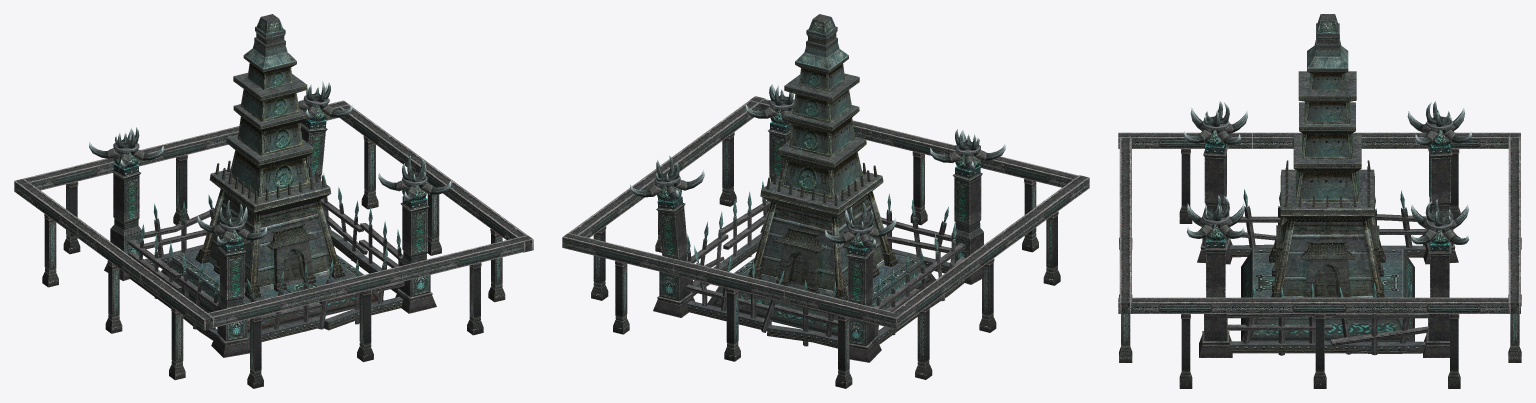
The model's file is 6st_tower.fbx.
3 views of the same model, side by side, from view 1: azimuth 30°, elevation 25°; view 2: azimuth 150°, elevation 25°; view 3: azimuth 270°, elevation 25° (orthographic). The views are drawn at different scales.
Visible parts, largest first — view 1: 5st_bell_001sfdgfdsg; view 2: 5st_bell_001sfdgfdsg; view 3: 5st_bell_001sfdgfdsg.
Boxes of the visible parts, x1,y1,x2,y2 form: 5st_bell_001sfdgfdsg: (14, 14, 533, 388); 5st_bell_001sfdgfdsg: (562, 14, 1089, 388); 5st_bell_001sfdgfdsg: (1118, 14, 1521, 388).
Bounding box in the file's own units: 21.58 × 17.3 × 21.55.
